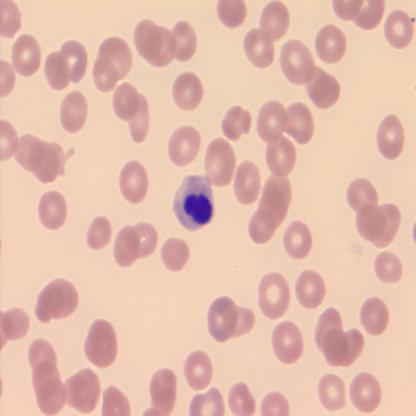NRC: (171, 173, 217, 234)
